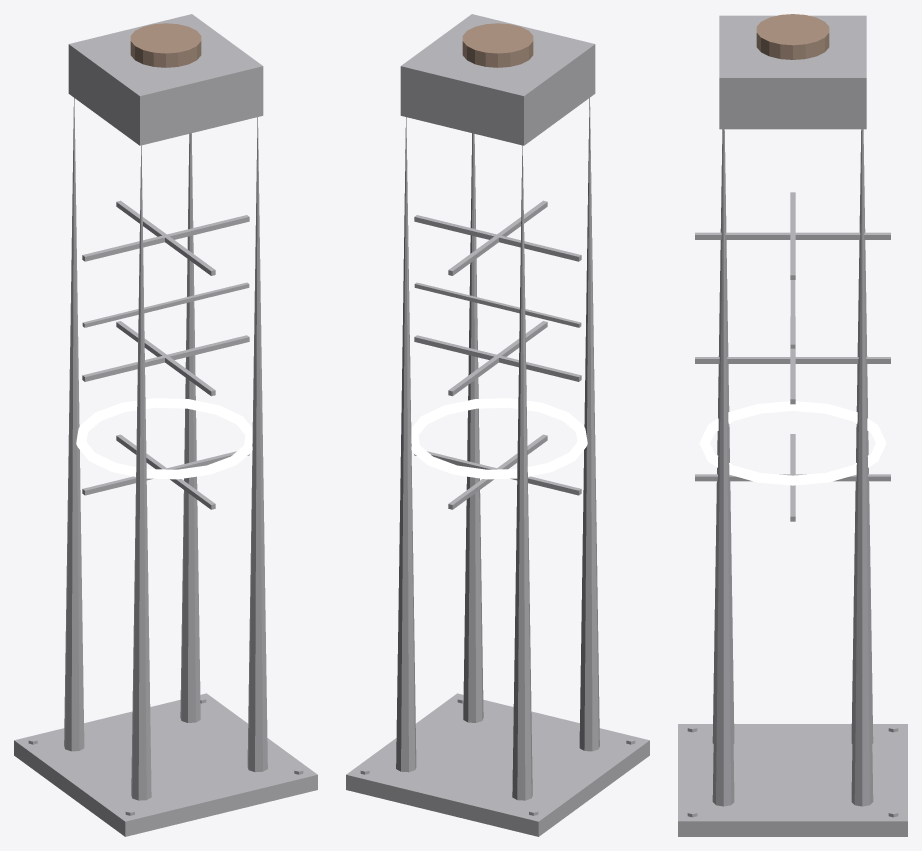
File: derrick_uncommon.glb
The picture shows the model from 3 angles, left to right: view 1: azimuth 30°, elevation 25°; view 2: azimuth 150°, elevation 25°; view 3: azimuth 270°, elevation 25°; orthographic projection. The views are drawn at different scales.
Visible parts, largest first — view 1: derrick; view 2: derrick; view 3: derrick.
Boxes of the visible parts, left/top/right/bottom form: derrick: left=14, top=14, right=317, bottom=836; derrick: left=346, top=14, right=649, bottom=836; derrick: left=678, top=14, right=907, bottom=836.
Size of the model in its own units: 2.11 by 7.69 by 2.11.
